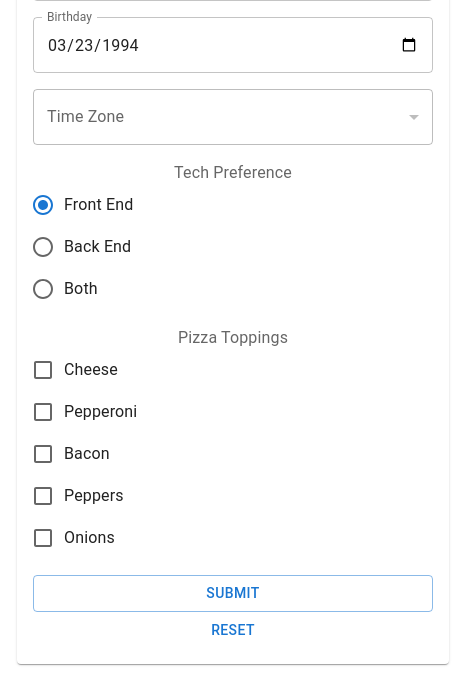
App › with invalid Name input displays error
(page scrolled)
Expected: the text "please enter a name" is not shown
Click the button "Submit". click: (233, 593)
box: [33,575,433,612]
(page scrolled)
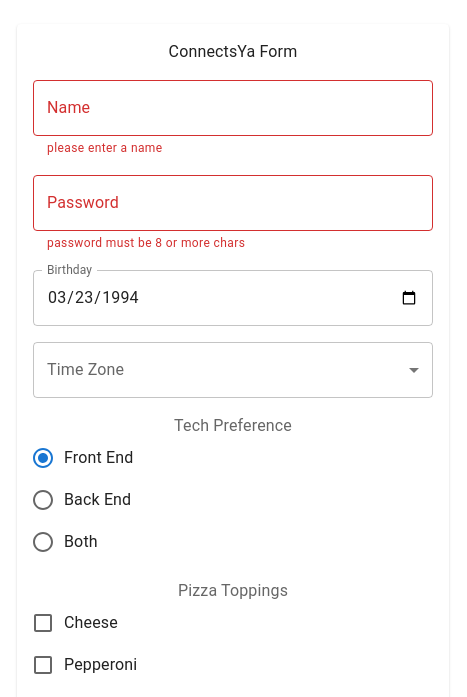
Now the text "please enter a name" is shown, box [47,141,162,155]
